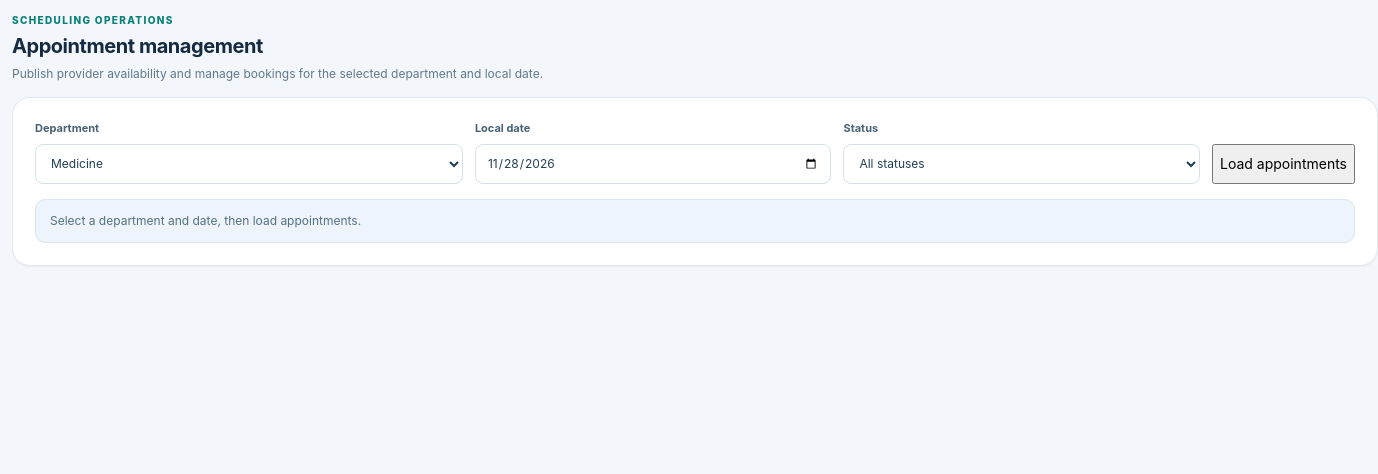
appointment management workspace › keeps a checked-in booking visible and explains a cancellation conflict
Click the button "Load appointments" at (1284, 164), box [1212,144,1355,184]
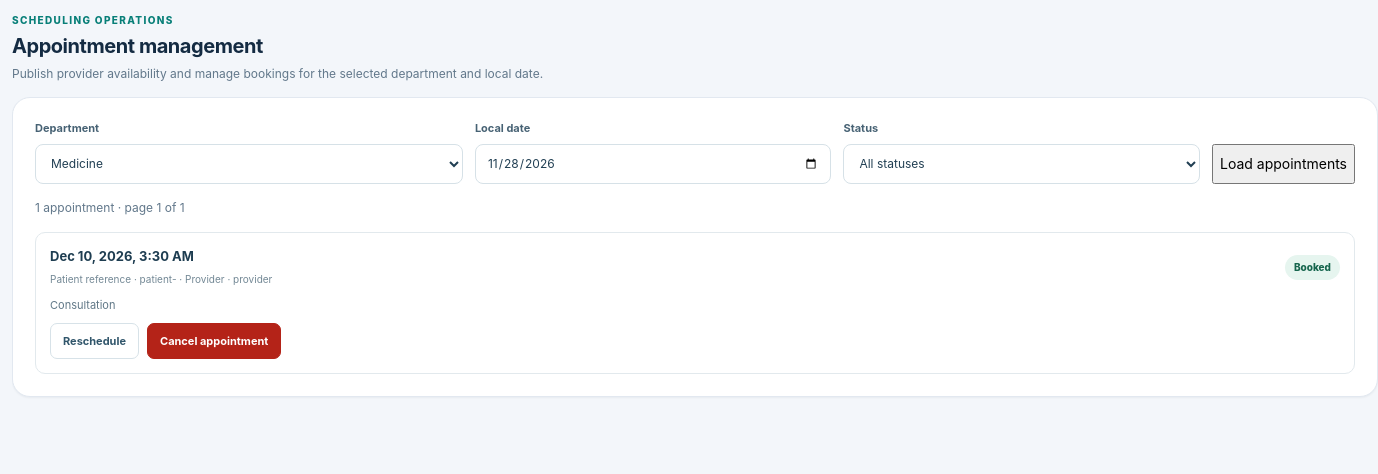
Expected: the text "Patient reference · patient- · Provider · provider" is shown, [50,272,272,287]
Click the button "Cancel appointment" at (214, 341), box [147,323,281,359]
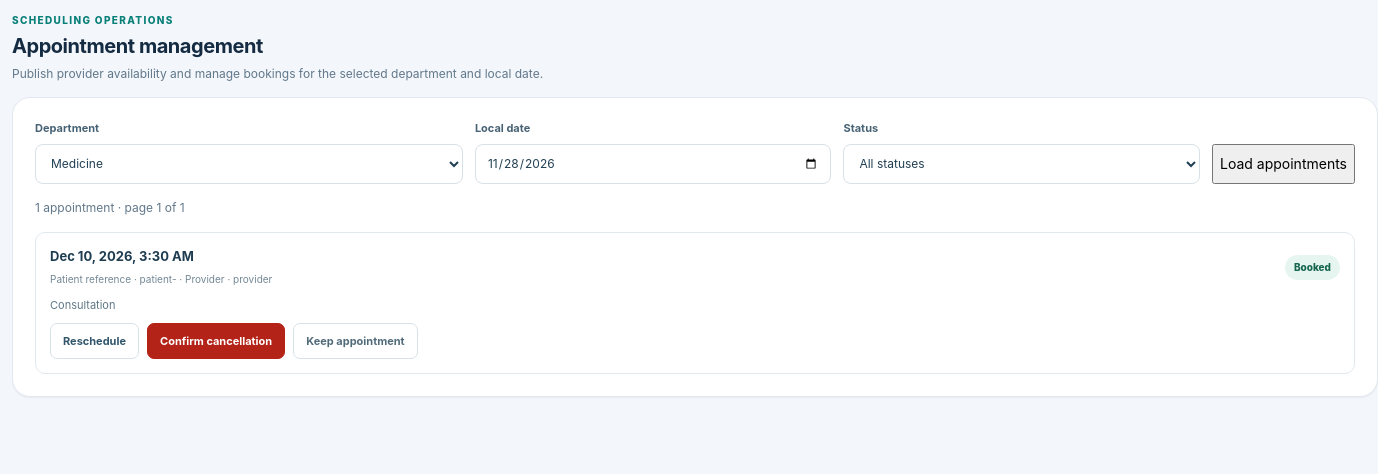
Click the button "Confirm cancellation" at (216, 341), box [147,323,285,359]
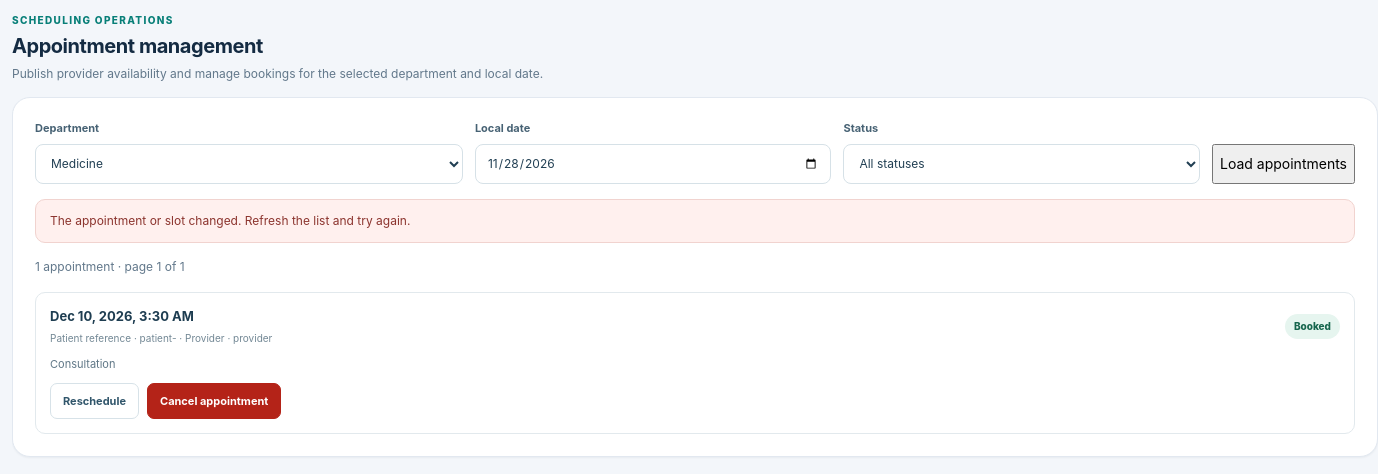
Expected: the text "Booked" is shown, [1285,314,1340,339]
Expected: the message "The appointment or slot changed. Refresh the list and try again." is shown, [35,199,1355,243]
Expected: the button "Cancel appointment" is shown, [147,383,281,419]
